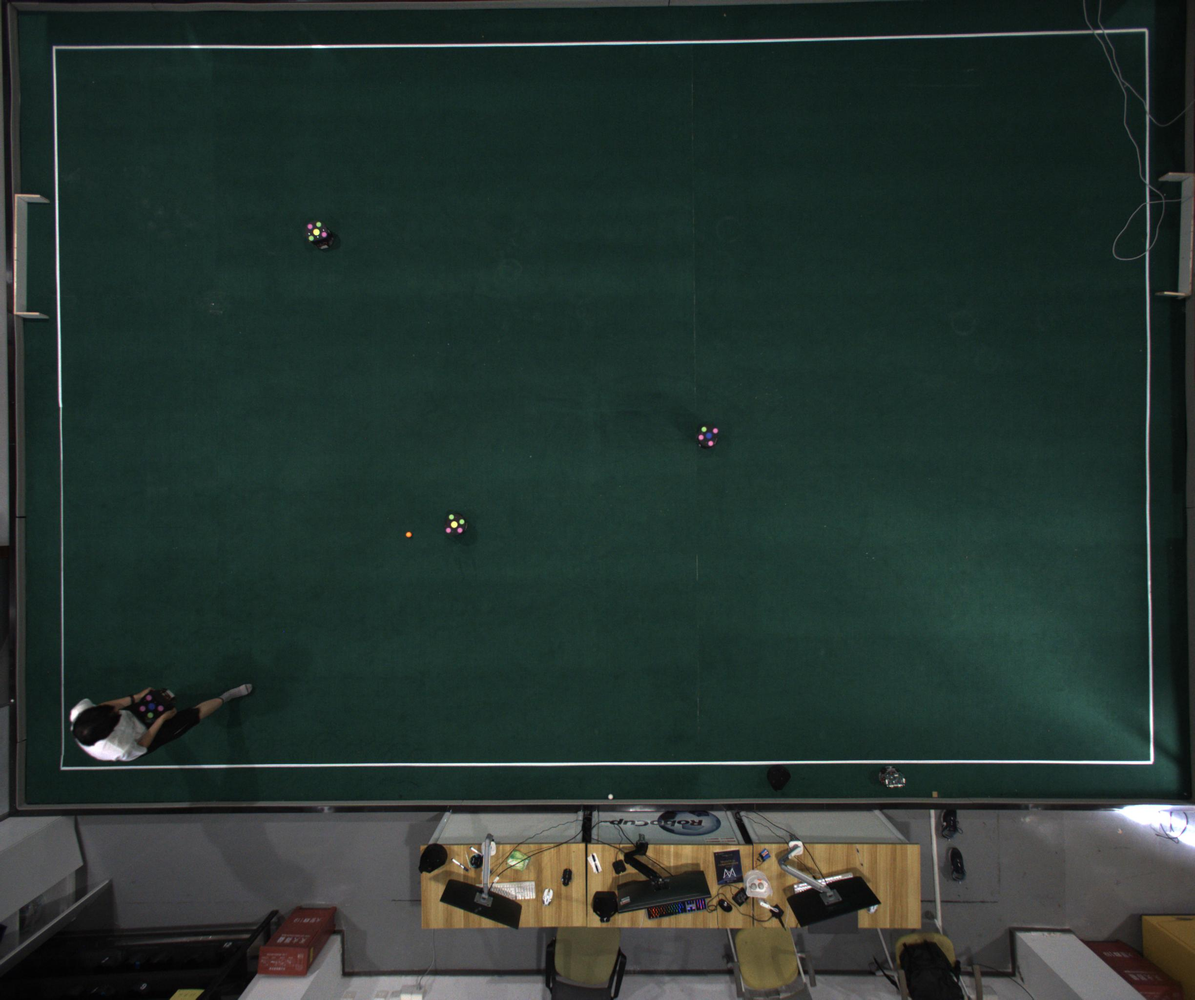ball: (405, 531, 411, 537)
blue_bot: (698, 424, 720, 448)
yellow_bot: (305, 221, 328, 243), (446, 513, 467, 536)
